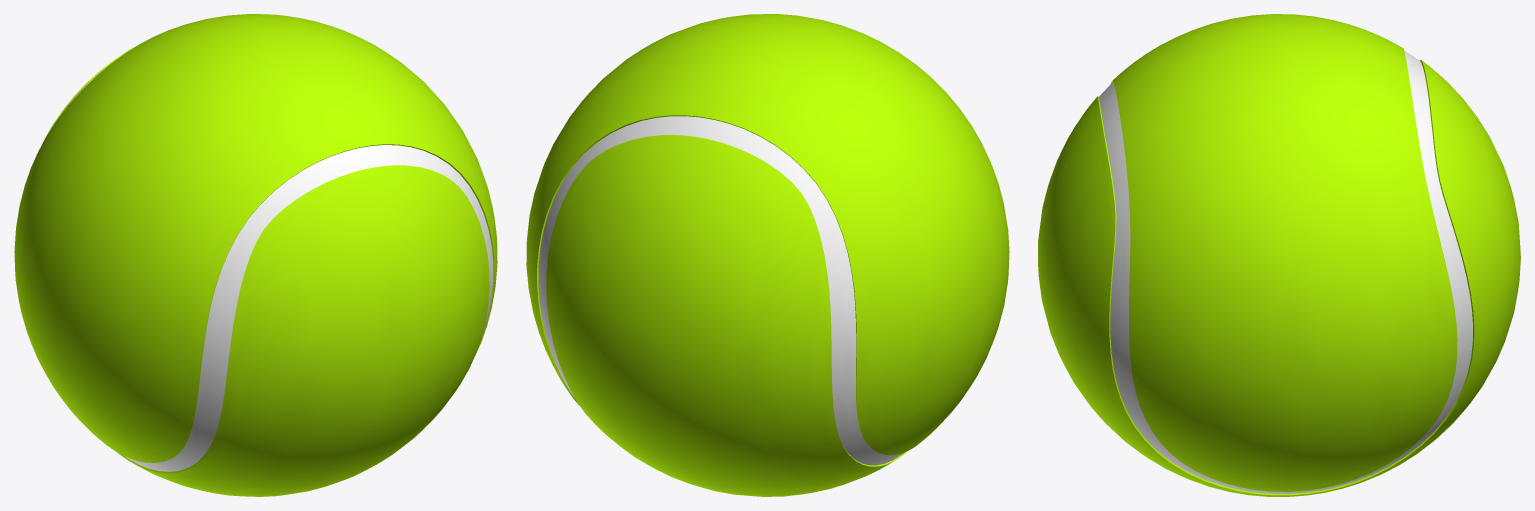
Rendered from asset.gltf.
3 views of the same model, side by side, from view 1: azimuth 30°, elevation 25°; view 2: azimuth 150°, elevation 25°; view 3: azimuth 270°, elevation 25° (orthographic).
Bounding box in the file's own units: 230 × 230 × 230.
